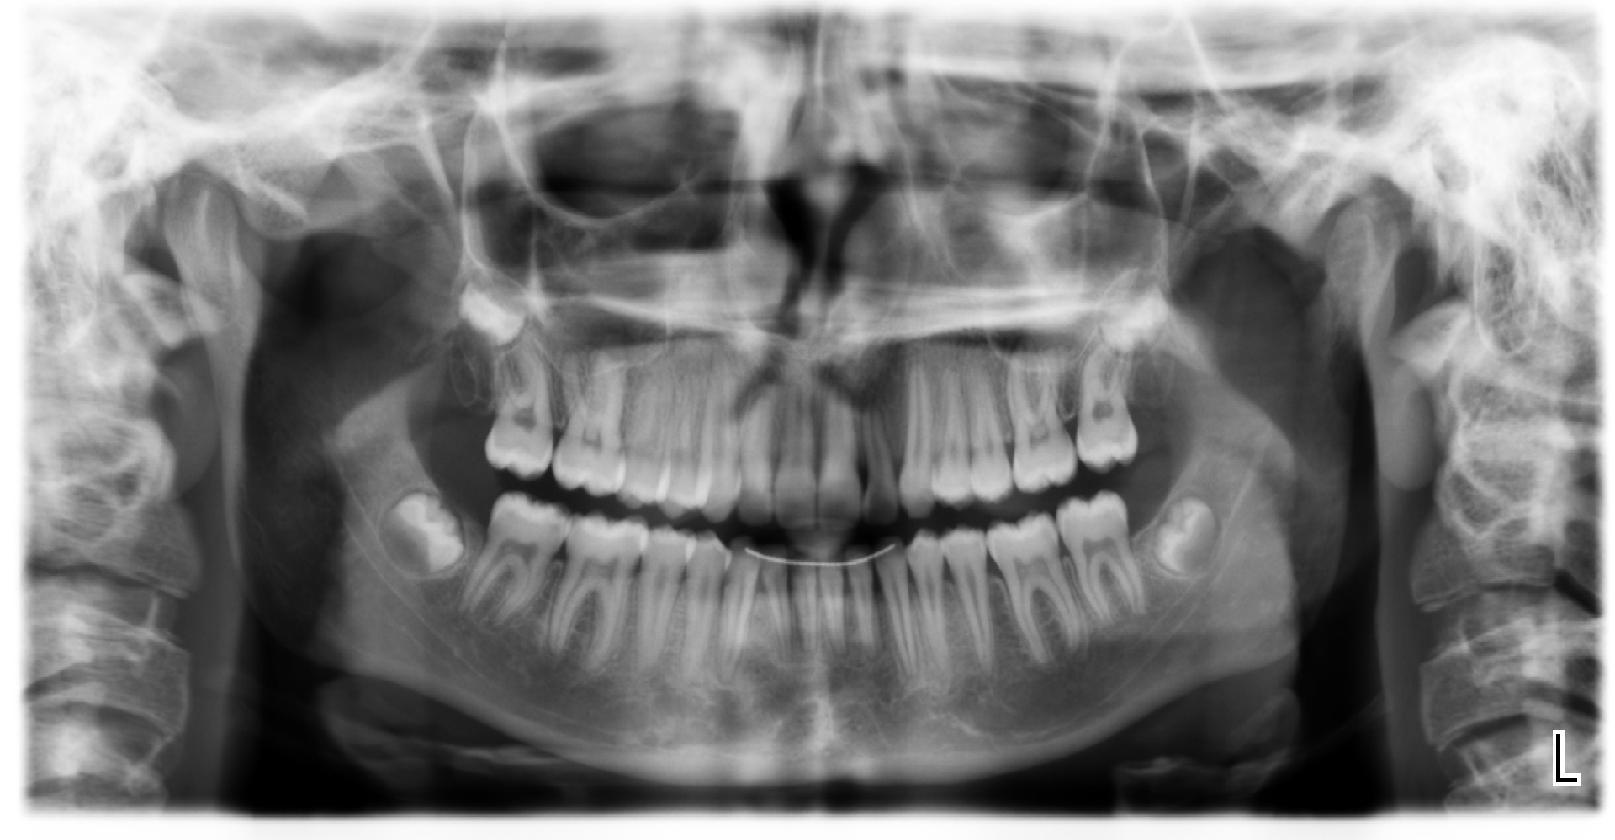Mesio-angular: (372, 479, 468, 596), (1139, 490, 1238, 579)
